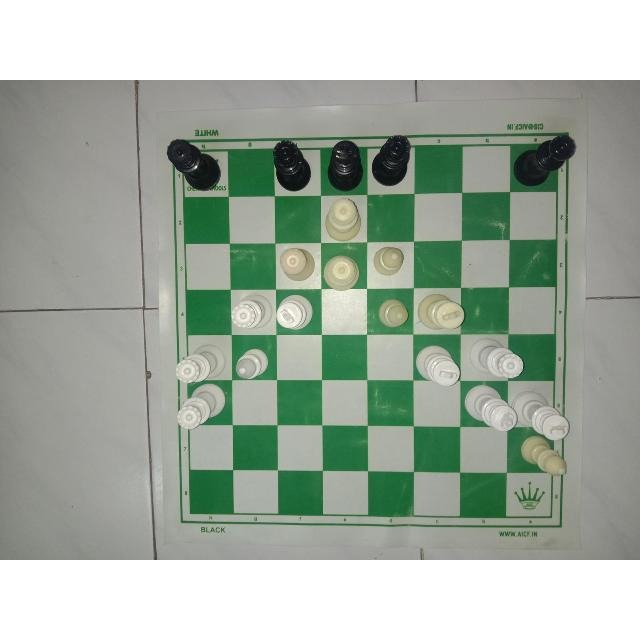black-king: (325, 139, 367, 193)
black-queen: (509, 133, 578, 189), (164, 138, 221, 196), (370, 127, 414, 189), (267, 136, 314, 194)
white-bishop: (520, 436, 572, 477), (367, 241, 405, 280), (376, 294, 408, 332), (234, 345, 270, 377)
white-king: (518, 390, 570, 440), (465, 385, 517, 435), (415, 344, 462, 385), (415, 293, 467, 329), (275, 292, 314, 328)
white-queen: (169, 384, 229, 430), (468, 336, 526, 381), (169, 341, 227, 383), (322, 196, 365, 243), (229, 290, 273, 334), (322, 254, 364, 292), (278, 245, 316, 285)
